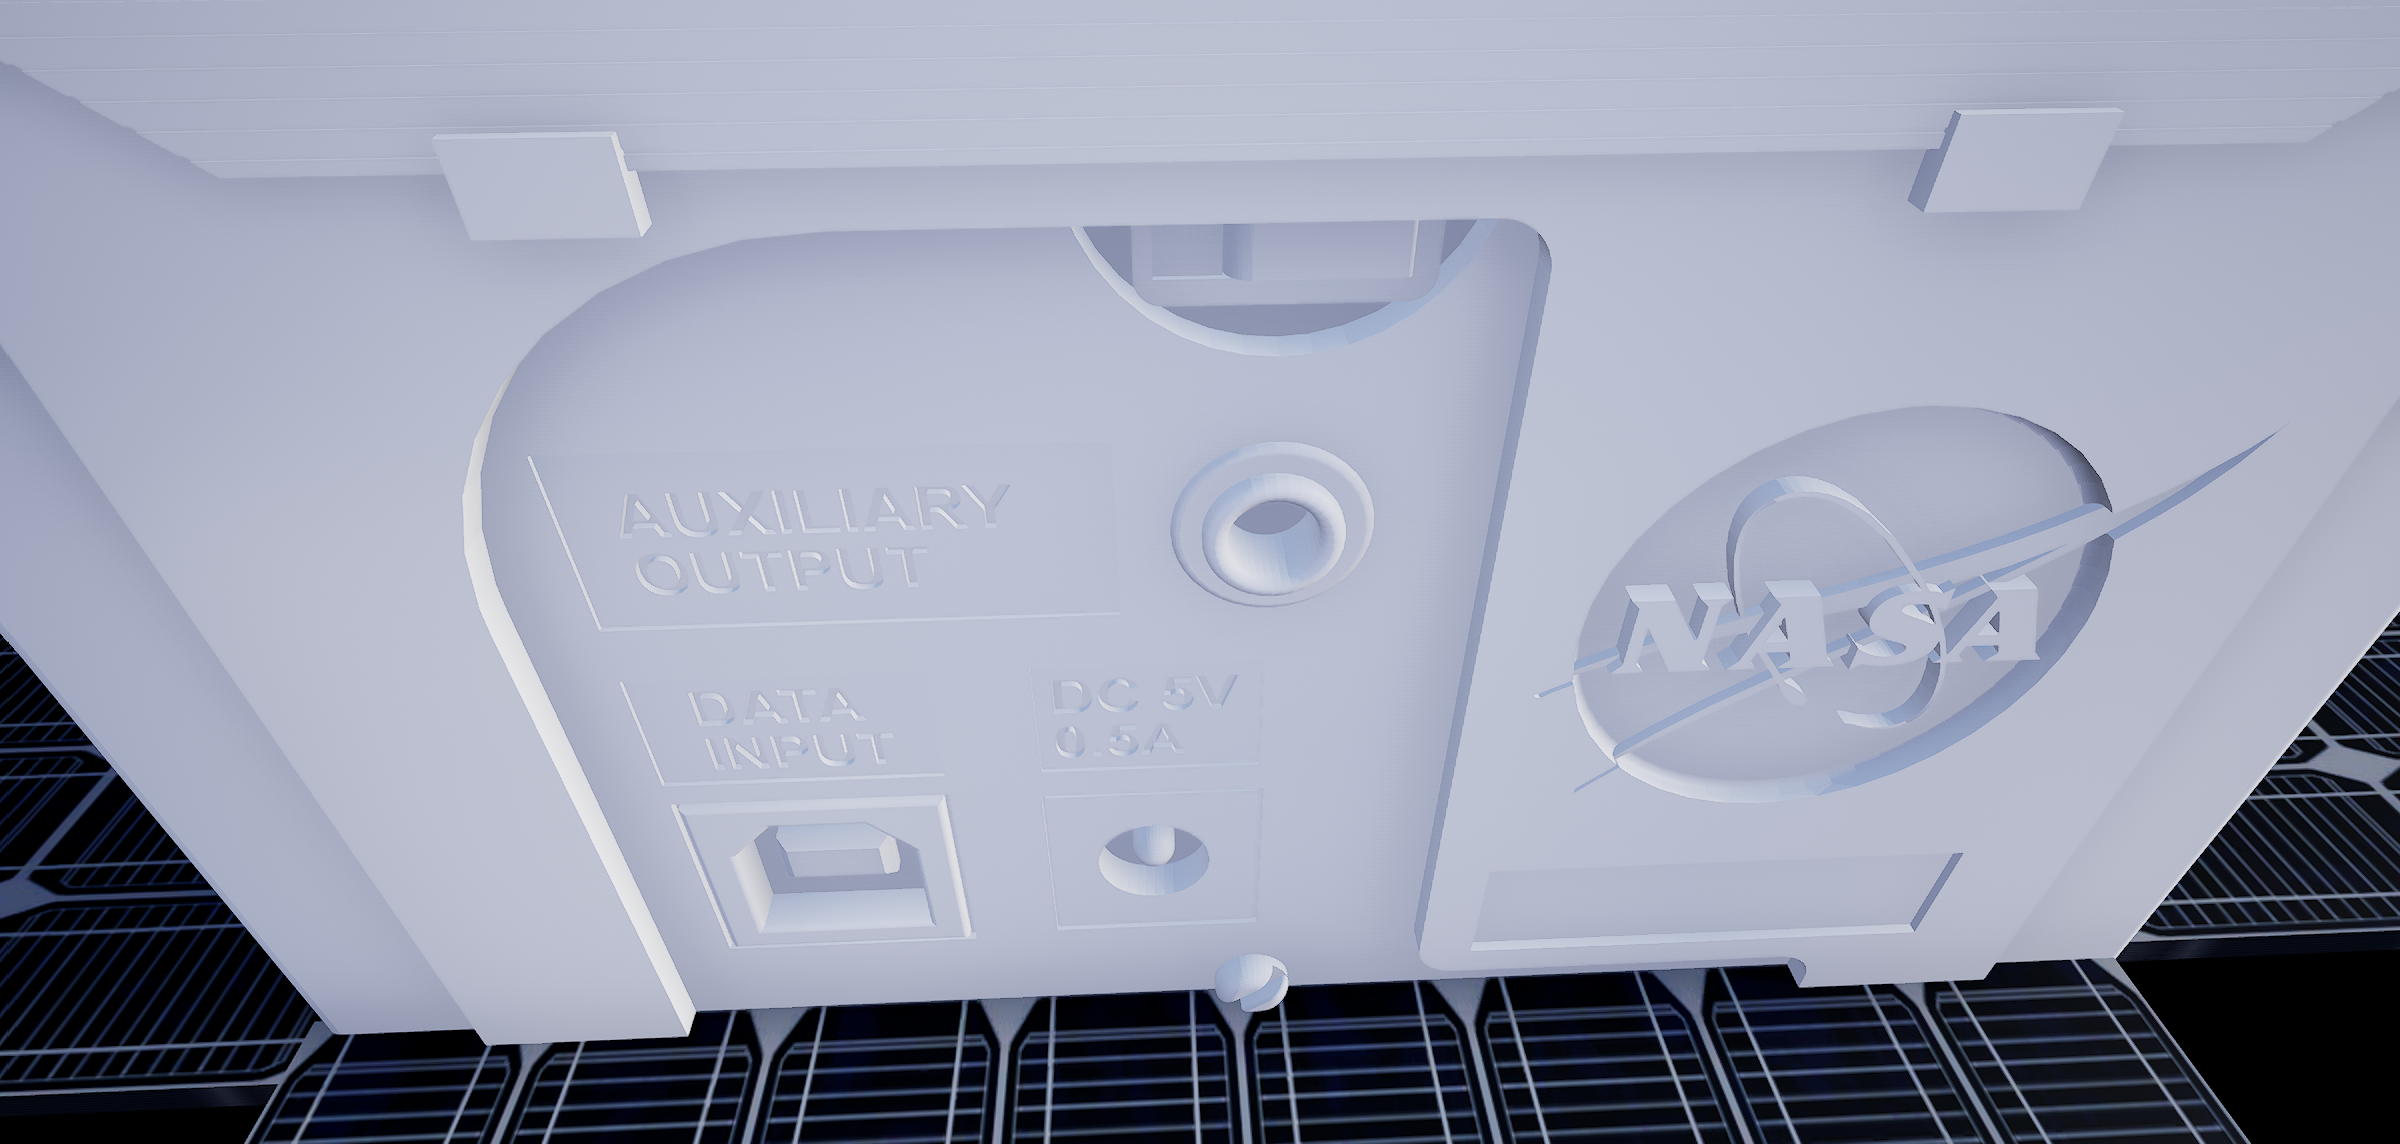aux: (1165, 433, 1381, 616)
dc: (1090, 816, 1223, 910)
usb: (719, 813, 944, 942)
